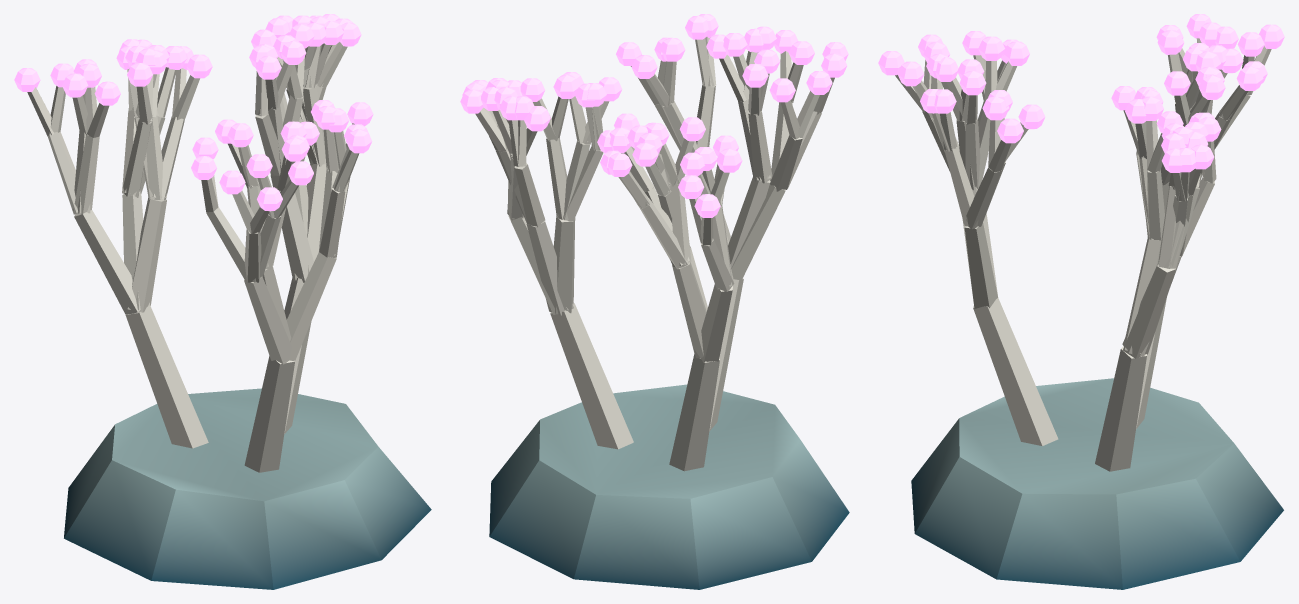
File: prop_lume_coral.glb
3 views of the same model, side by side, from view 1: azimuth 30°, elevation 25°; view 2: azimuth 150°, elevation 25°; view 3: azimuth 270°, elevation 25° (orthographic). The views are drawn at different scales.
Parts seen in each view (by area): view 1: prop_lume_coral_stone, prop_lume_coral_bone, prop_lume_coral_lume; view 2: prop_lume_coral_stone, prop_lume_coral_bone, prop_lume_coral_lume; view 3: prop_lume_coral_stone, prop_lume_coral_bone, prop_lume_coral_lume.
Part boxes in pixels (box(x1,y1,x2,y2)): prop_lume_coral_stone: box(64, 388, 431, 589); prop_lume_coral_bone: box(27, 42, 359, 472); prop_lume_coral_lume: box(14, 14, 373, 211); prop_lume_coral_stone: box(489, 384, 849, 589); prop_lume_coral_bone: box(475, 37, 834, 471); prop_lume_coral_lume: box(460, 14, 848, 217); prop_lume_coral_stone: box(911, 378, 1283, 589); prop_lume_coral_bone: box(895, 38, 1271, 471); prop_lume_coral_lume: box(878, 14, 1284, 172).
Size of the model in its own units: 2.2 by 2.87 by 2.34.
